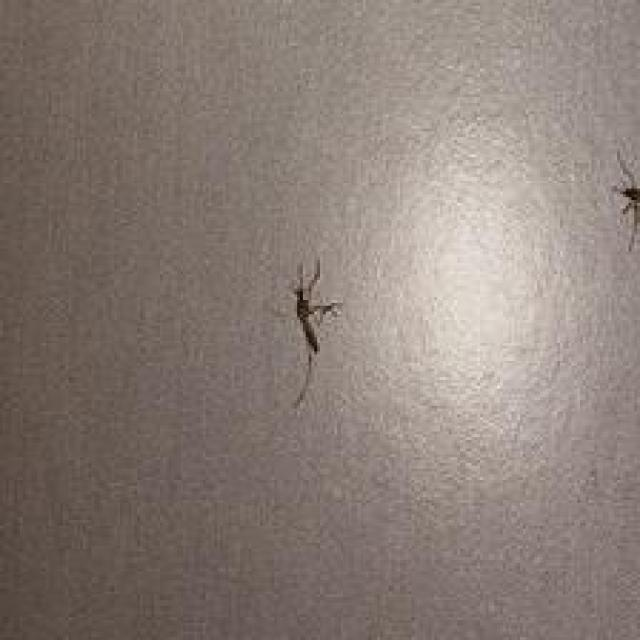Culex: (611, 146, 640, 251)
